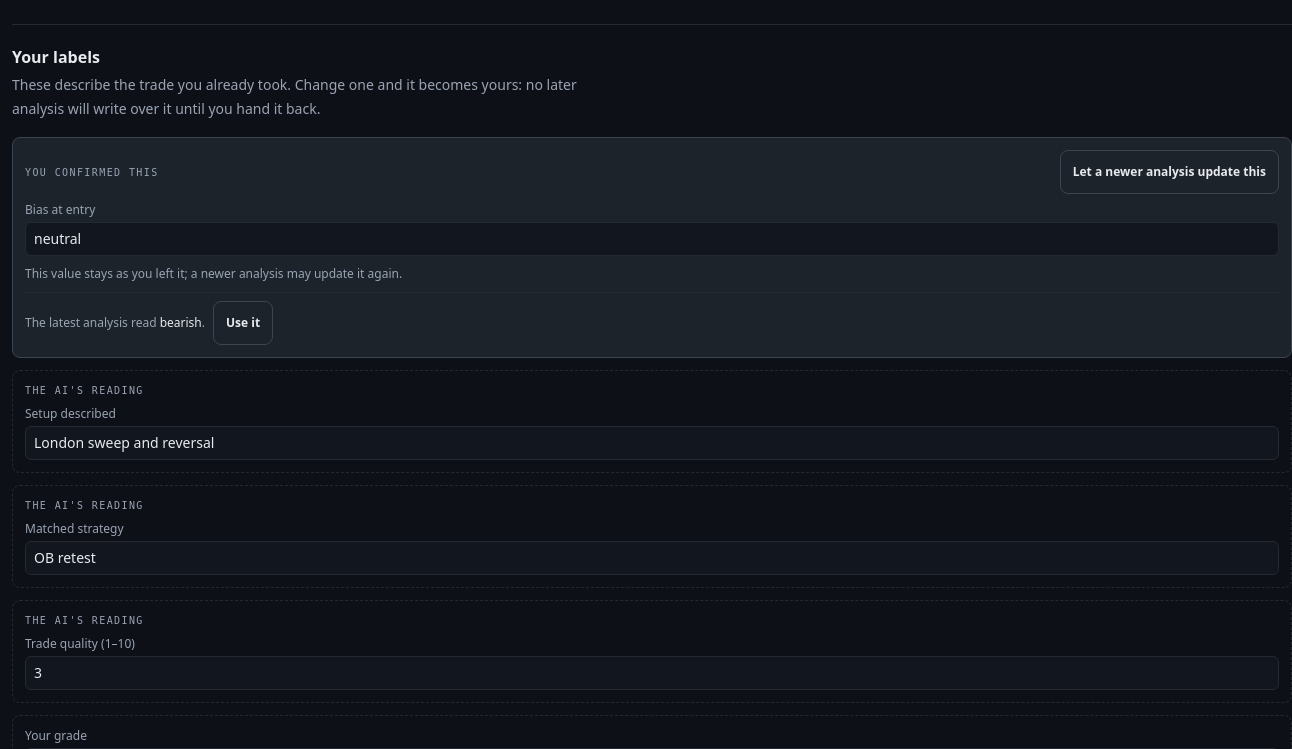
Test: AILabelReview — the latest reading for a locked field › applying the reading fills the field but saves nothing on its own
Click the button with aria-label "use the latest reading for bias": coordinates (243, 323) [213, 301, 273, 345]
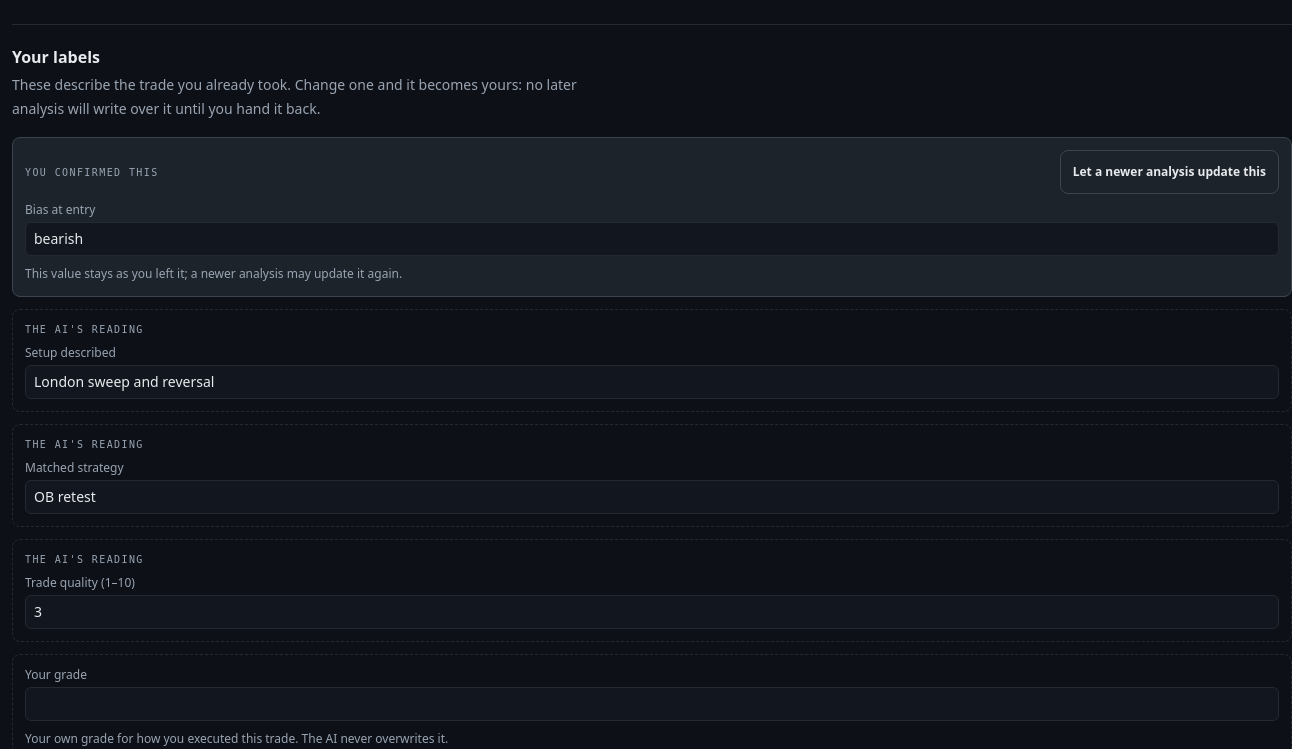
Check: the field labelled "Bias at entry" holds "bearish", box [25, 222, 1279, 256]
